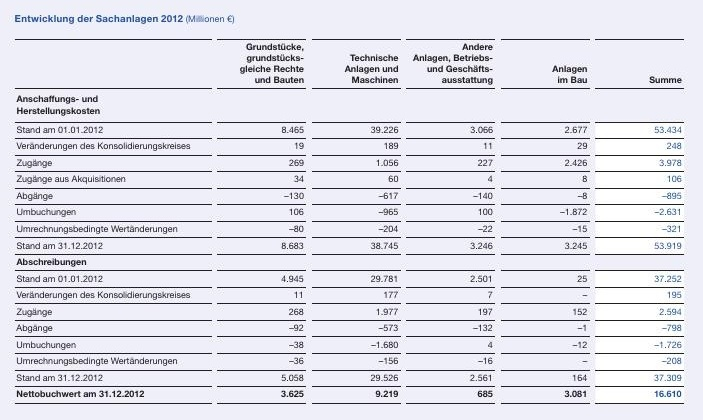table: (0, 0, 703, 420)
